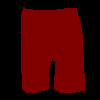bermuda: (20, 6, 84, 93)
